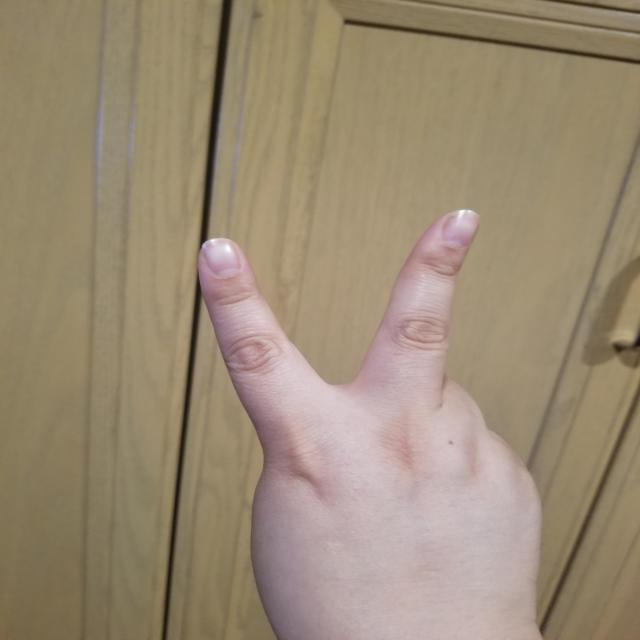V: (191, 204, 565, 640)
